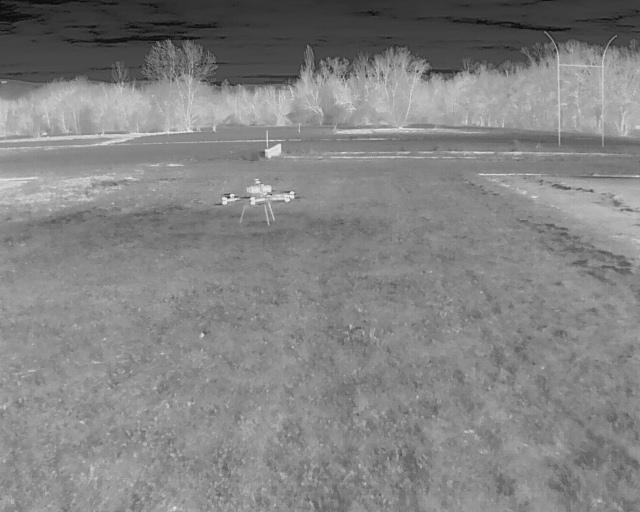drone: (210, 173, 309, 230)
